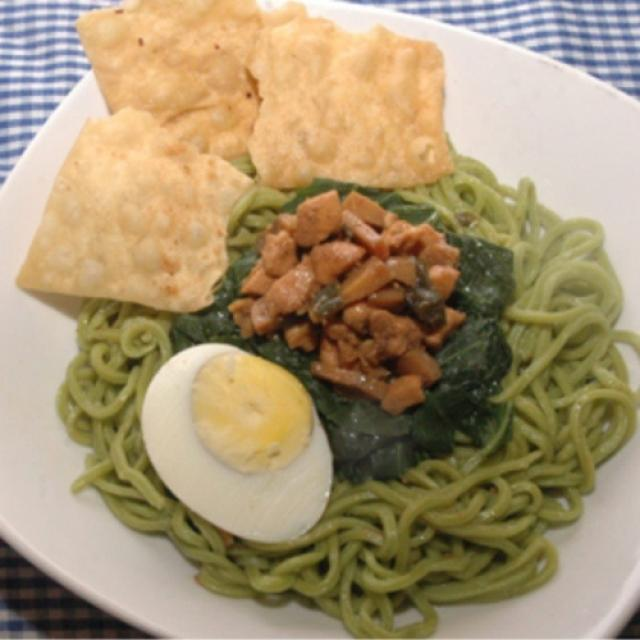面条主食: (0, 5, 635, 634)
